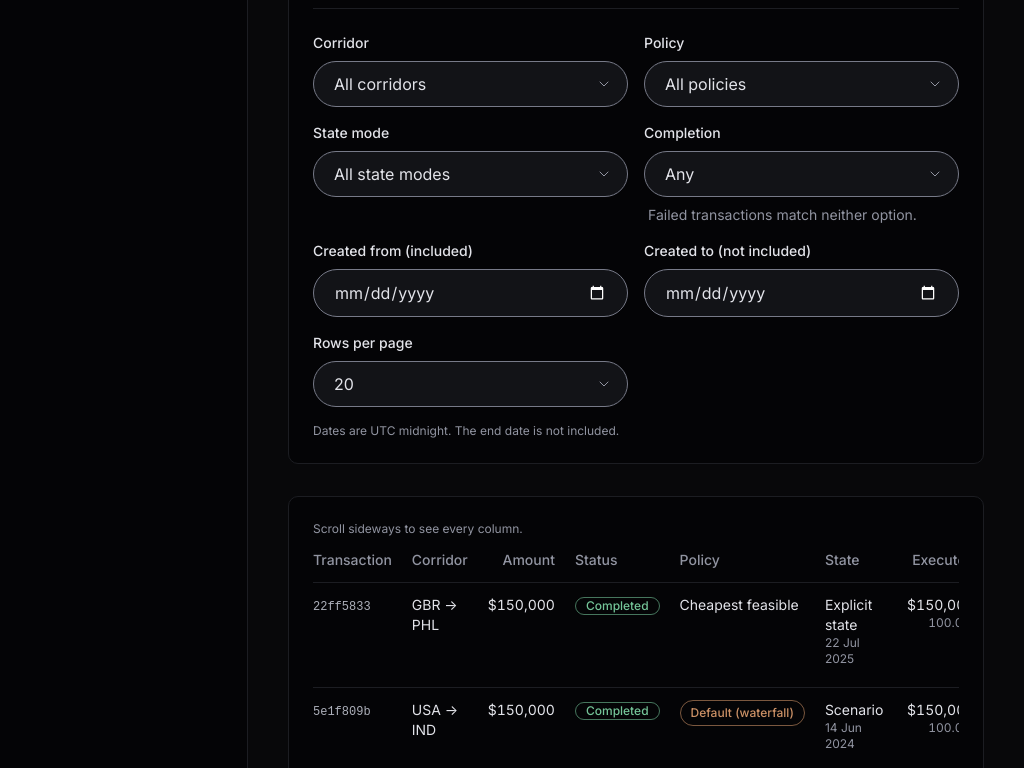
paging and page size › goes back to page 1 when the page size changes
(page scrolled)
Select "50" in the dropdown labelled "Rows per page" at (470, 384), box [313,362,628,408]
(page scrolled)
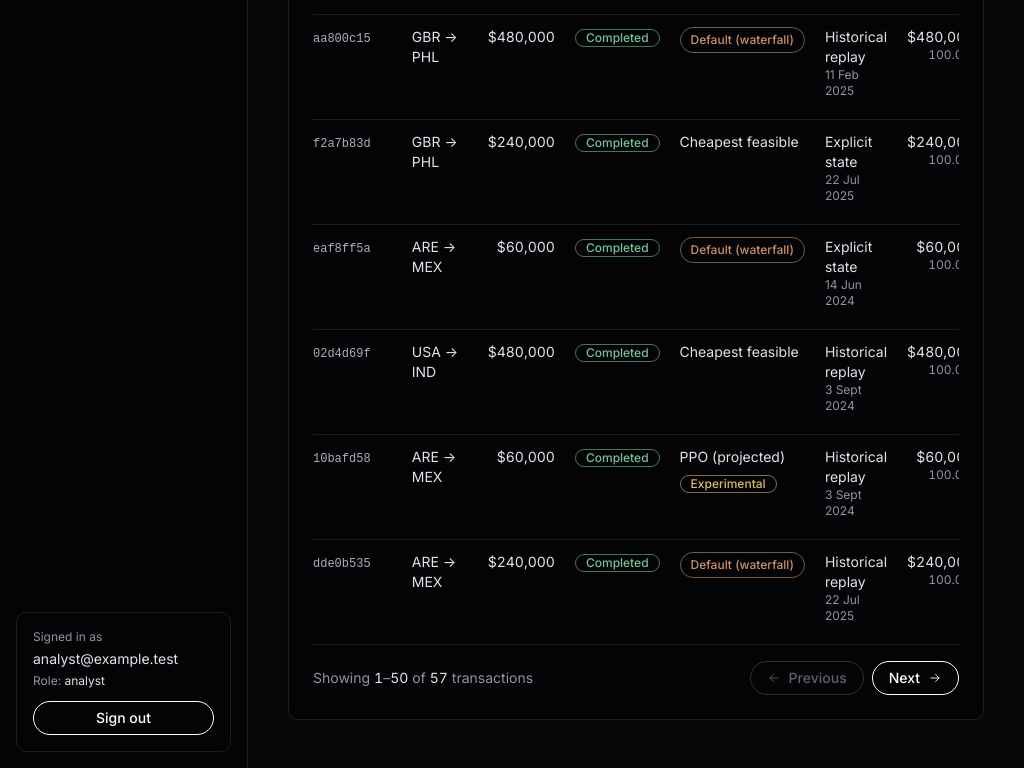
Check: the navigation bar named "Pagination" shows "Showing 1–50 of 57", box [313,646,959,696]
